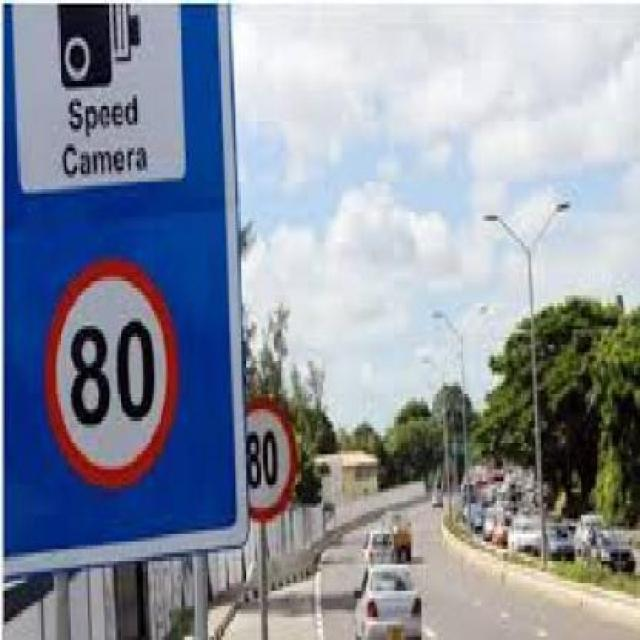forb_speed_over_80: (52, 267, 172, 482), (244, 411, 293, 517)
